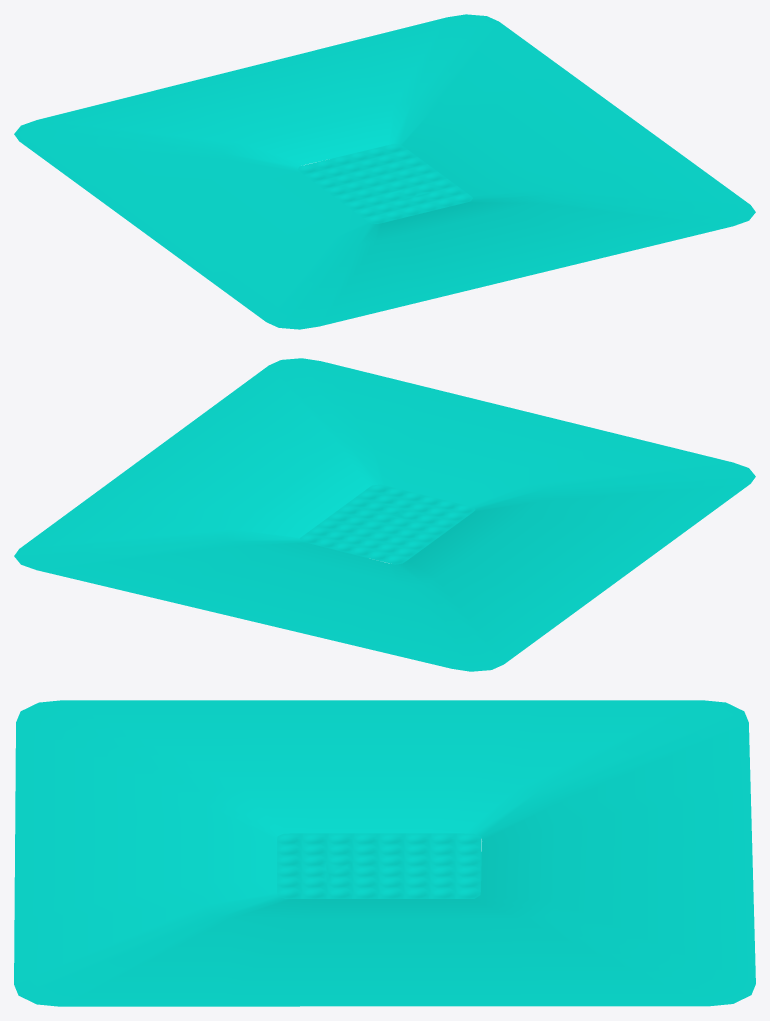
File: Collider_24Table_Realsize.FBX
3 views of the same model, one above another, from view 1: azimuth 30°, elevation 25°; view 2: azimuth 150°, elevation 25°; view 3: azimuth 270°, elevation 25° (orthographic). The views are drawn at different scales.
Parts seen in each view (by area): view 1: Collider_Realsize; view 2: Collider_Realsize; view 3: Collider_Realsize.
Boxes of the visible parts, x1,y1,x2,y2 form: Collider_Realsize: (14,14,755,329); Collider_Realsize: (14,358,755,671); Collider_Realsize: (14,700,755,1006).
Size of the model in its own units: 11514 by 240 by 11250.
